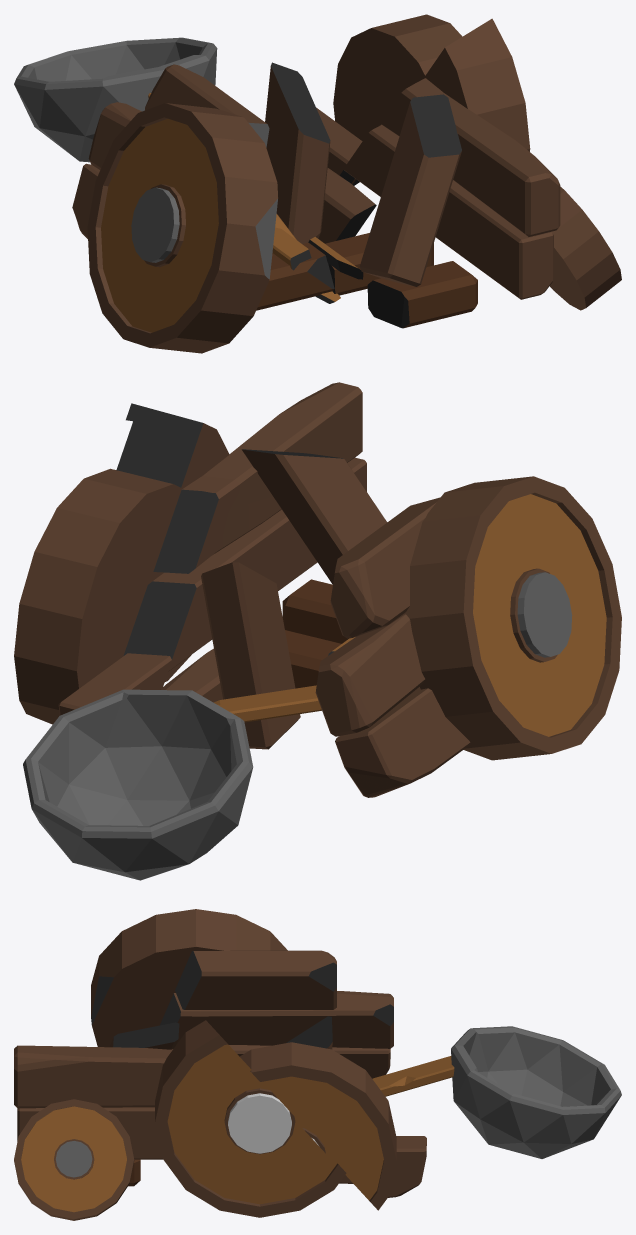
File: CatapultBroken.fbx
3 views of the same model, one above another, from view 1: azimuth 30°, elevation 25°; view 2: azimuth 150°, elevation 25°; view 3: azimuth 270°, elevation 25° (orthographic). The views are drawn at different scales.
Visible parts, largest first — view 1: CatapultBroken; view 2: CatapultBroken; view 3: CatapultBroken.
Boxes of the visible parts, x1,y1,x2,y2 form: CatapultBroken: (14,14,621,353); CatapultBroken: (14,382,621,880); CatapultBroken: (14,909,621,1220).
Size of the model in its own units: 447 by 245 by 671.
